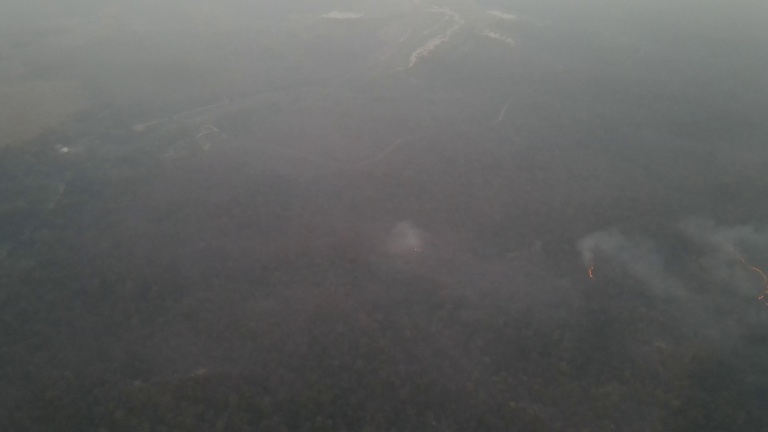fire: (727, 246, 768, 304), (583, 263, 599, 281)
smoke: (574, 228, 676, 309), (681, 216, 747, 286), (381, 217, 437, 267)
